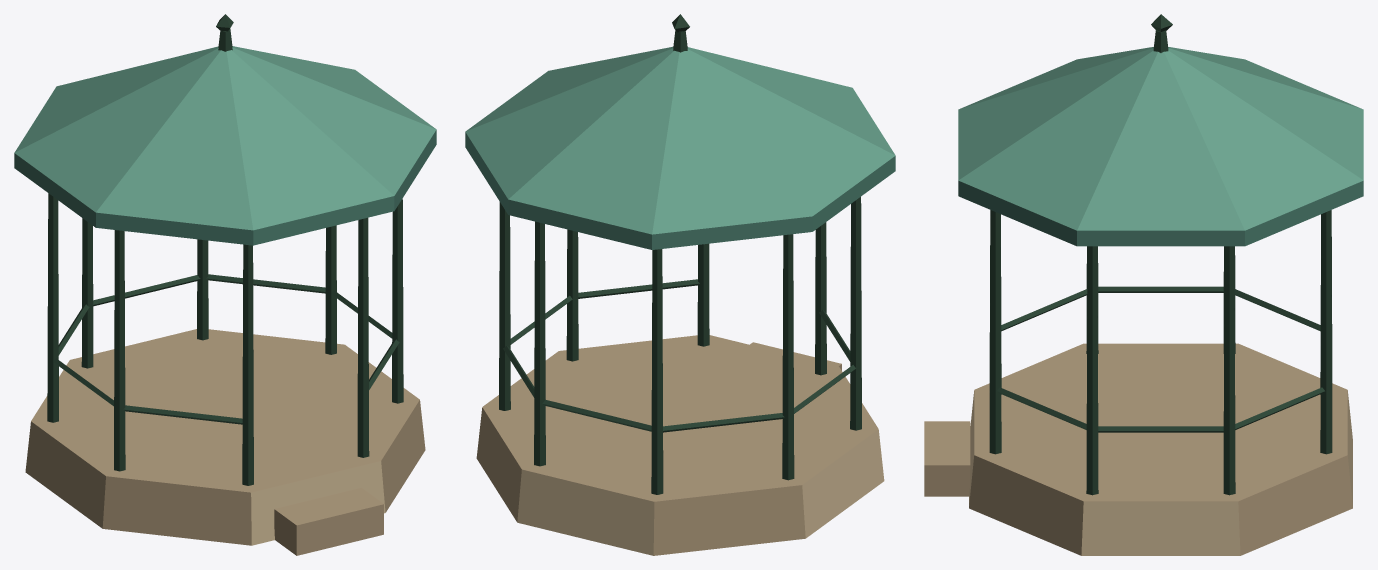
File: bandstand.glb
3 views of the same model, side by side, from view 1: azimuth 30°, elevation 25°; view 2: azimuth 150°, elevation 25°; view 3: azimuth 270°, elevation 25° (orthographic). The views are drawn at different scales.
Visible parts, largest first — view 1: bandstand2; view 2: bandstand2; view 3: bandstand2.
Boxes of the visible parts, box(x1,y1,x2,y2) form: bandstand2: box(14, 14, 436, 555); bandstand2: box(465, 14, 895, 555); bandstand2: box(924, 14, 1363, 555).
Size of the model in its own units: 3.51 by 4.4 by 3.81.
